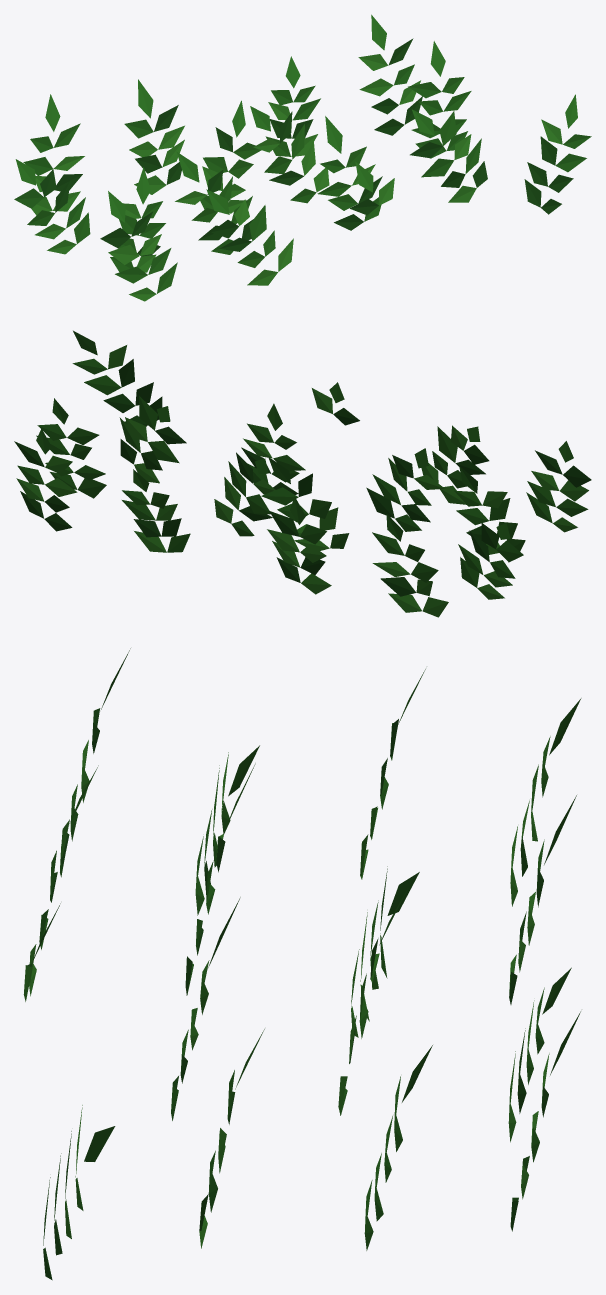
The picture shows the model from 3 angles, top to bottom: view 1: azimuth 30°, elevation 25°; view 2: azimuth 150°, elevation 25°; view 3: azimuth 270°, elevation 25°; orthographic projection. The views are drawn at different scales.
Parts seen in each view (by area): view 1: r18c1_l00; view 2: r18c1_l00; view 3: r18c1_l00.
Boxes of the visible parts, box(x1,y1,x2,y2) form: r18c1_l00: box(14, 14, 591, 301); r18c1_l00: box(14, 330, 591, 617); r18c1_l00: box(23, 648, 581, 1280).
Bounding box in the file's own units: 2.3 × 0.5239 × 1.11.
